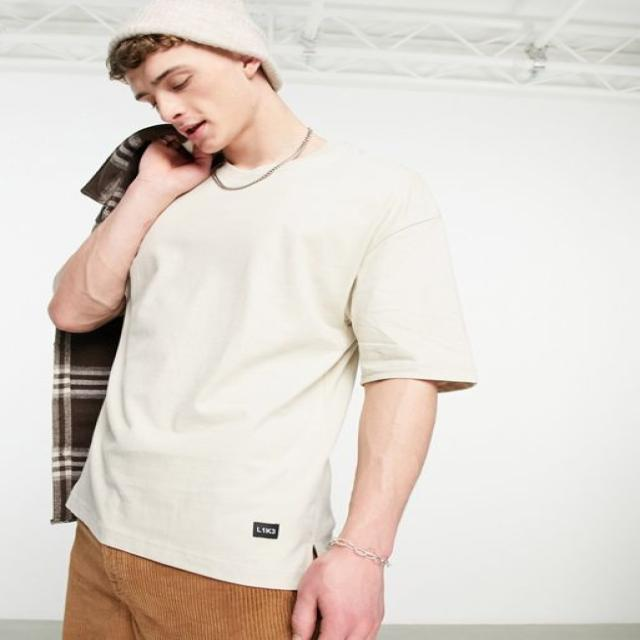tshirt: (51, 128, 475, 588)
